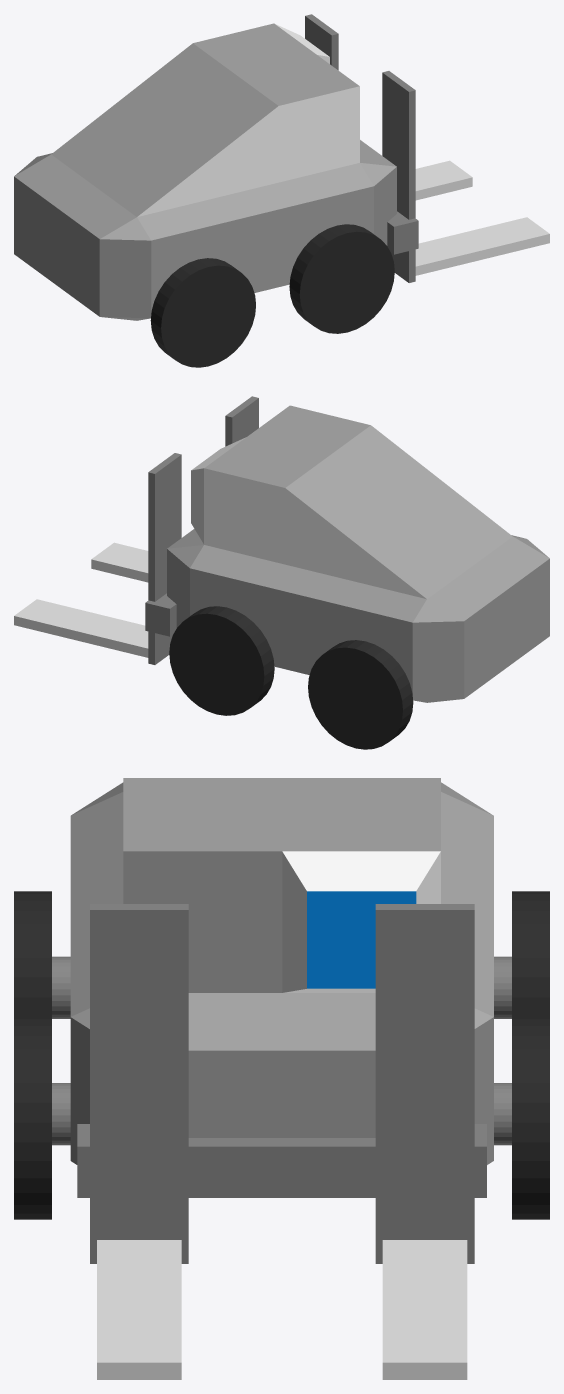
File: robo.fbx
3 views of the same model, one above another, from view 1: azimuth 30°, elevation 25°; view 2: azimuth 150°, elevation 25°; view 3: azimuth 270°, elevation 25° (orthographic). The views are drawn at different scales.
Visible parts, largest first — view 1: Cube, Cube.001; view 2: Cube, Cube.001; view 3: Cube, Cube.001.
Part boxes in pixels (x1,y1,x2,y2): Cube: [14, 14, 418, 367]; Cube.001: [415, 160, 549, 275]; Cube: [145, 396, 549, 749]; Cube.001: [14, 542, 148, 657]; Cube: [14, 778, 549, 1263]; Cube.001: [97, 1240, 467, 1379].
Bounding box in the file's own units: 894 × 414 × 506.
